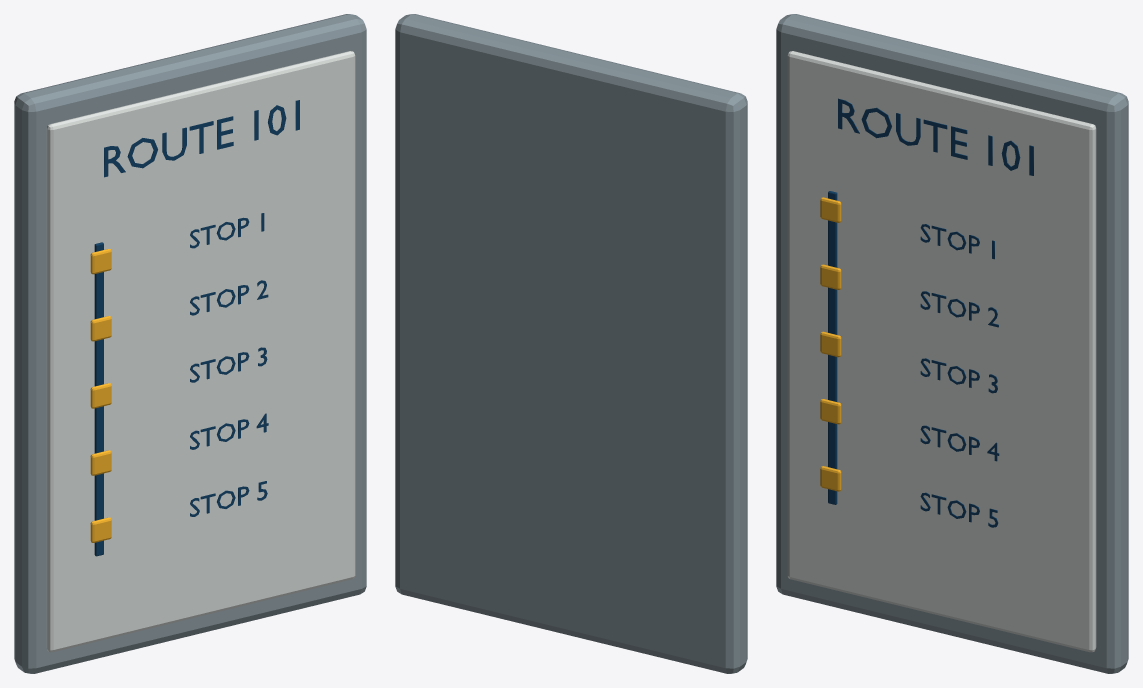
The picture shows the model from 3 angles, left to right: view 1: azimuth 30°, elevation 25°; view 2: azimuth 150°, elevation 25°; view 3: azimuth 330°, elevation 25°; orthographic projection.
Visible parts, largest first — view 1: PANEL_Inlay, PANEL_Frame, EDITABLE_Title, ROUTE_Line, EDITABLE_Stop.004, EDITABLE_Stop, EDITABLE_Stop.002, EDITABLE_Stop.003, EDITABLE_Stop.001; view 2: PANEL_Frame; view 3: PANEL_Inlay, PANEL_Frame, EDITABLE_Title, ROUTE_Line, EDITABLE_Stop, EDITABLE_Stop.004, EDITABLE_Stop.003, EDITABLE_Stop.002, EDITABLE_Stop.001.
Boxes of the visible parts, bbox=[...] form: PANEL_Inlay: bbox=[46, 51, 355, 652]; PANEL_Frame: bbox=[14, 14, 366, 673]; EDITABLE_Title: bbox=[104, 100, 299, 177]; ROUTE_Line: bbox=[94, 242, 103, 556]; EDITABLE_Stop.004: bbox=[190, 413, 268, 449]; EDITABLE_Stop: bbox=[190, 481, 267, 516]; EDITABLE_Stop.002: bbox=[190, 280, 268, 315]; EDITABLE_Stop.003: bbox=[190, 347, 267, 382]; EDITABLE_Stop.001: bbox=[190, 213, 264, 248]; PANEL_Frame: bbox=[395, 14, 747, 673]; PANEL_Inlay: bbox=[787, 51, 1096, 652]; PANEL_Frame: bbox=[776, 14, 1128, 673]; EDITABLE_Title: bbox=[838, 98, 1033, 175]; ROUTE_Line: bbox=[828, 191, 837, 504]; EDITABLE_Stop: bbox=[920, 492, 998, 527]; EDITABLE_Stop.004: bbox=[920, 425, 999, 461]; EDITABLE_Stop.003: bbox=[920, 358, 997, 393]; EDITABLE_Stop.002: bbox=[920, 291, 998, 327]; EDITABLE_Stop.001: bbox=[920, 224, 994, 259].
Size of the model in its own units: 0.75 by 1.2 by 0.0985.
